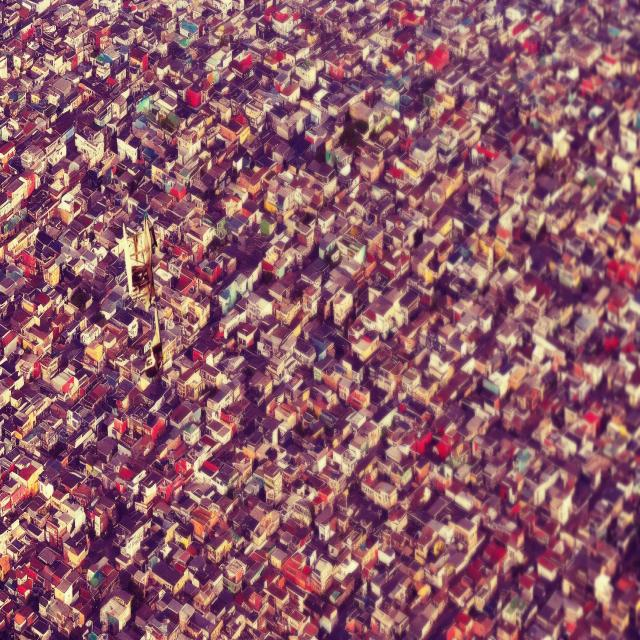airplane: (123, 223, 163, 377)
